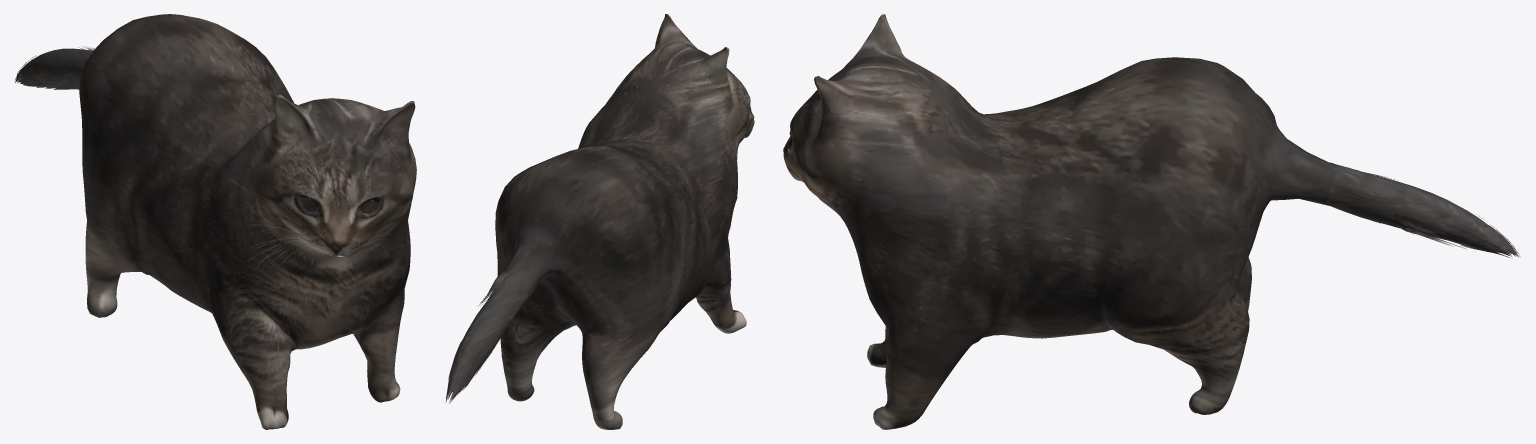
Rendered from standingcat.glb.
The picture shows the model from 3 angles, left to right: view 1: azimuth 30°, elevation 25°; view 2: azimuth 150°, elevation 25°; view 3: azimuth 270°, elevation 25°; orthographic projection. The views are drawn at different scales.
Visible parts, largest first — view 1: Muchkin1002; view 2: Muchkin1002; view 3: Muchkin1002.
Part boxes in pixels (x1,y1,x2,y2): Muchkin1002: [15, 14, 416, 429]; Muchkin1002: [445, 14, 754, 429]; Muchkin1002: [783, 14, 1520, 429].
Size of the model in its own units: 0.2392 by 0.3868 by 0.7241.
1 material, 1 textured.
